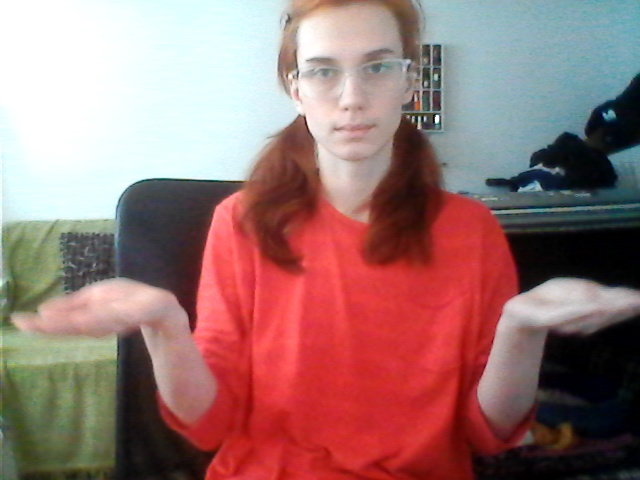alebo: (7, 272, 640, 352)
